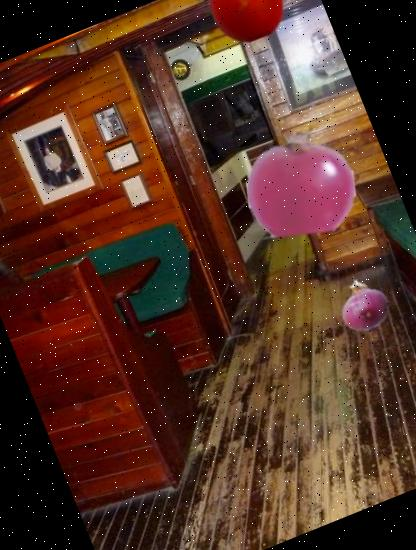Onion: (320, 259, 410, 349)
Redcurrant: (230, 112, 370, 253)
Tomato: (200, 0, 294, 53)
